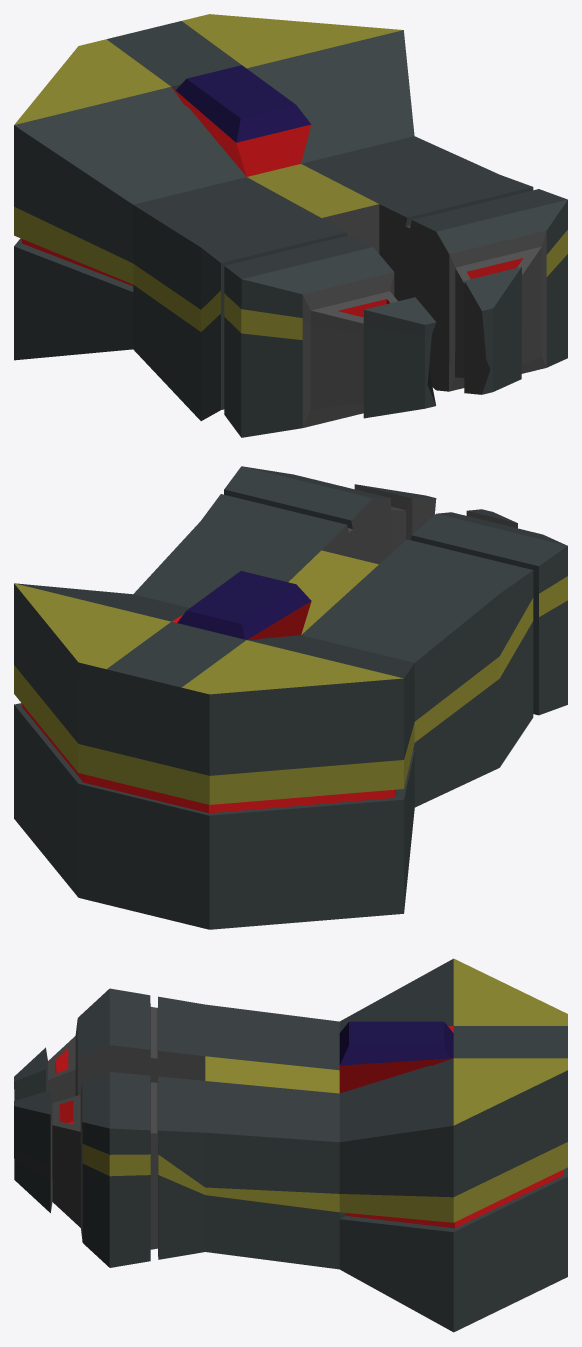
Rendered from aliada.glb.
3 renders of one model, top to bottom at view 1: azimuth 30°, elevation 25°; view 2: azimuth 150°, elevation 25°; view 3: azimuth 270°, elevation 25°, orthographic. The views are drawn at different scales.
Parts seen in each view (by area): view 1: Cube; view 2: Cube; view 3: Cube.
Part boxes in pixels (left/top/right/bottom): Cube: left=14, top=14, right=567, bottom=437; Cube: left=14, top=466, right=567, bottom=929; Cube: left=14, top=958, right=567, bottom=1332.
Size of the model in its own units: 5 by 3 by 7.
